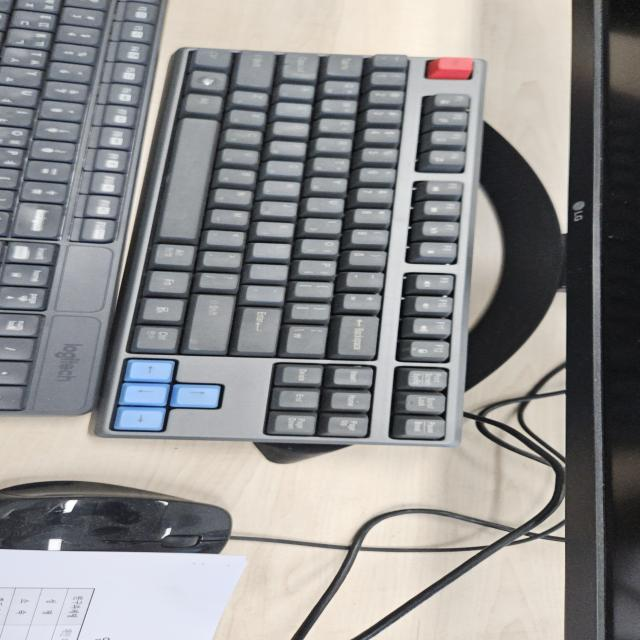Keyboard: (90, 45, 485, 447)
Mouse: (2, 478, 235, 554)
